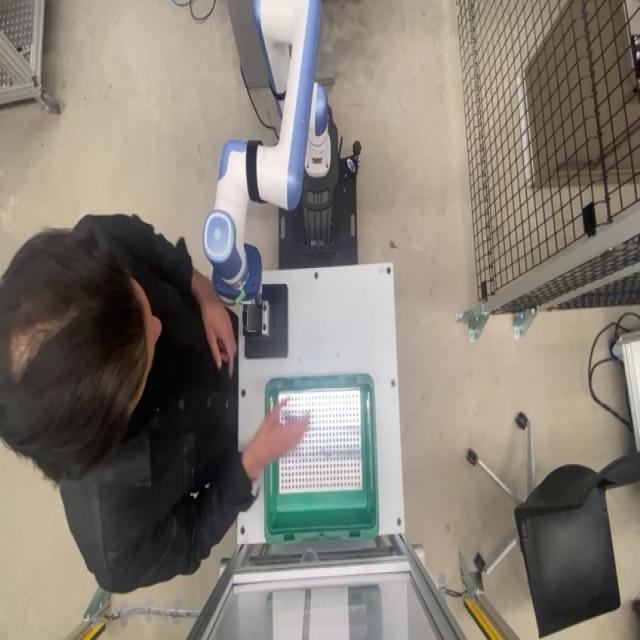human: (0, 211, 311, 593)
robot: (201, 0, 339, 304)
